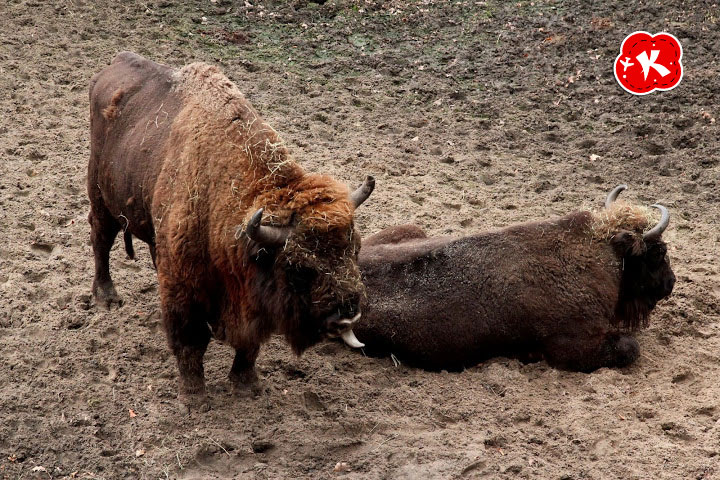zubr: (67, 24, 381, 381), (319, 178, 698, 380)
